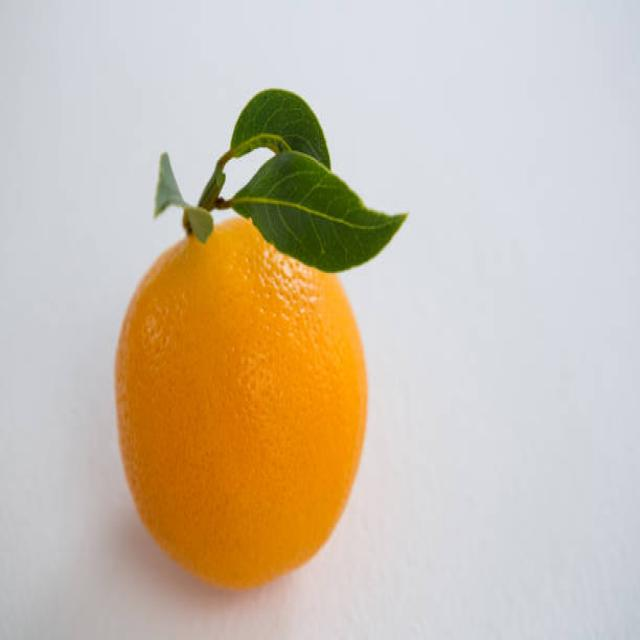Good_Orange: (113, 215, 370, 595)
